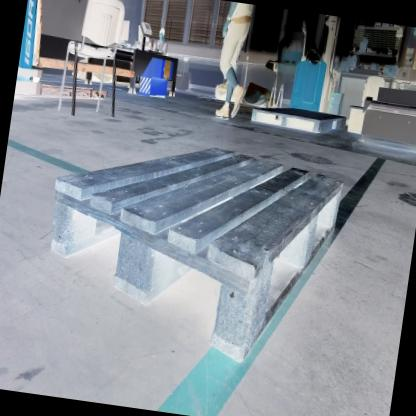BoxFace: (48, 141, 344, 371), (249, 104, 346, 137)
